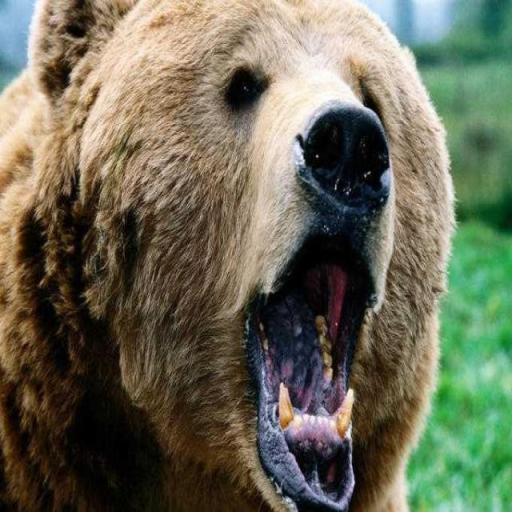Bear: (0, 0, 457, 510)
